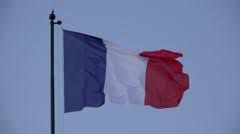French Flag: (62, 30, 188, 114)
